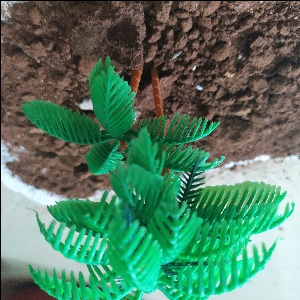plant: (108, 141, 286, 300), (33, 65, 161, 192)
